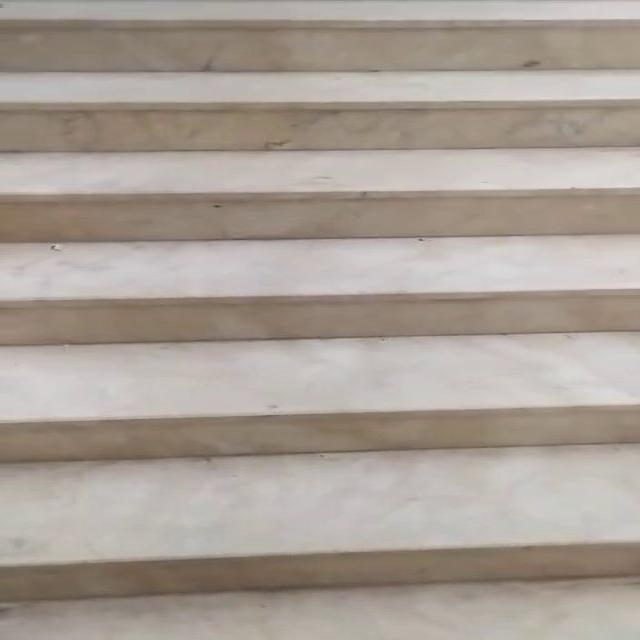stairs: (0, 0, 638, 610)
